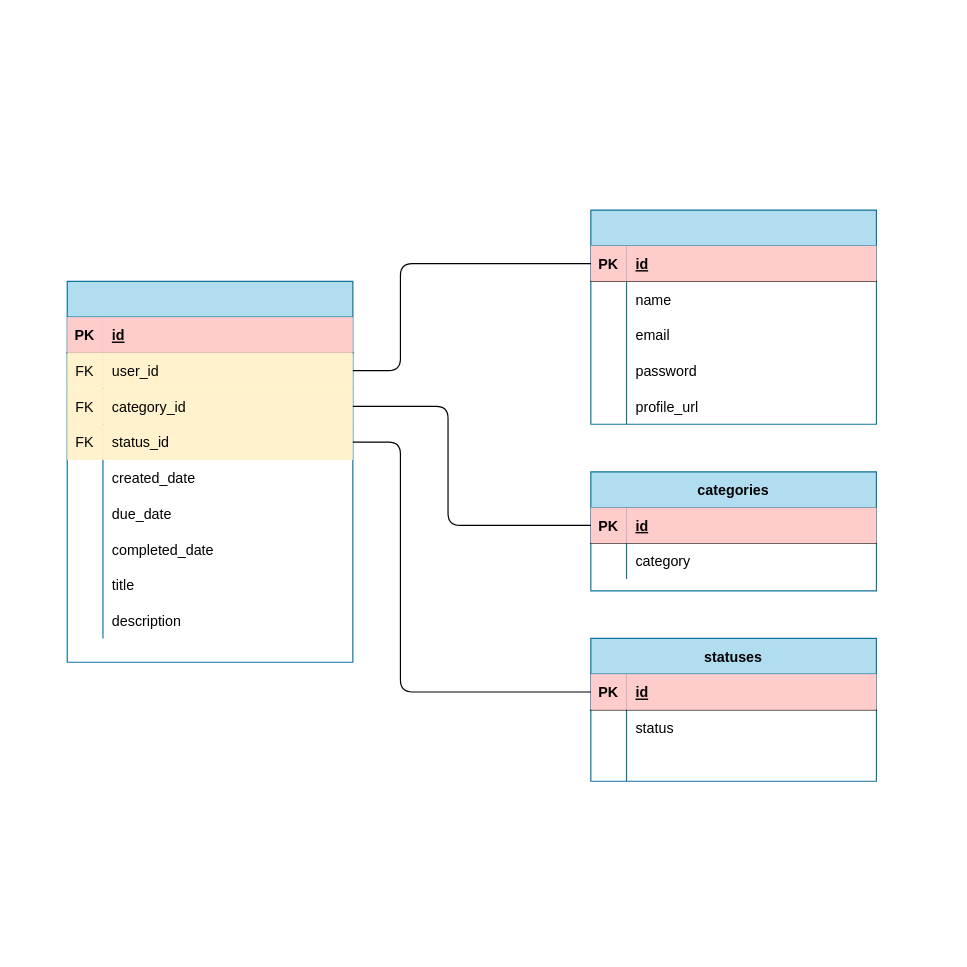
Image size: 967x967. Some labels were removed from this diagram. Here are the shapes that lost their labels. From the top down, the box of each, then its label:
(590, 209, 876, 424): users
(66, 280, 353, 662): entries
